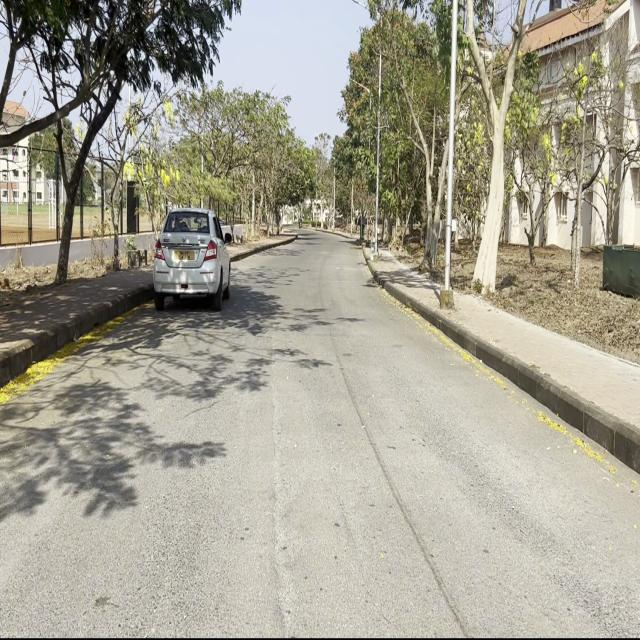Object: (153, 206, 233, 312)
Road: (3, 226, 637, 631)
